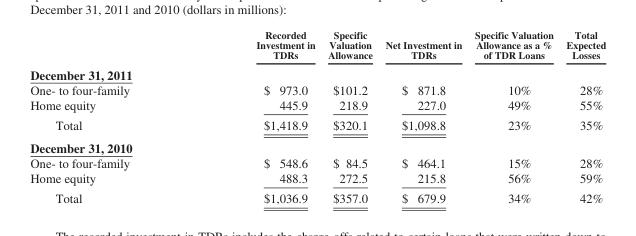table: (29, 28, 605, 205)
table column: (29, 28, 192, 205), (192, 28, 320, 205), (467, 28, 559, 205), (378, 28, 467, 205), (320, 28, 378, 205), (559, 28, 605, 205)
table column header: (29, 28, 605, 63)
table projected row header: (29, 136, 605, 155), (29, 63, 605, 81)
table row: (29, 28, 605, 63), (29, 114, 605, 136), (29, 136, 605, 155), (29, 63, 605, 81), (29, 170, 605, 188), (29, 97, 605, 114), (29, 188, 605, 205), (29, 81, 605, 97), (29, 155, 605, 170)
